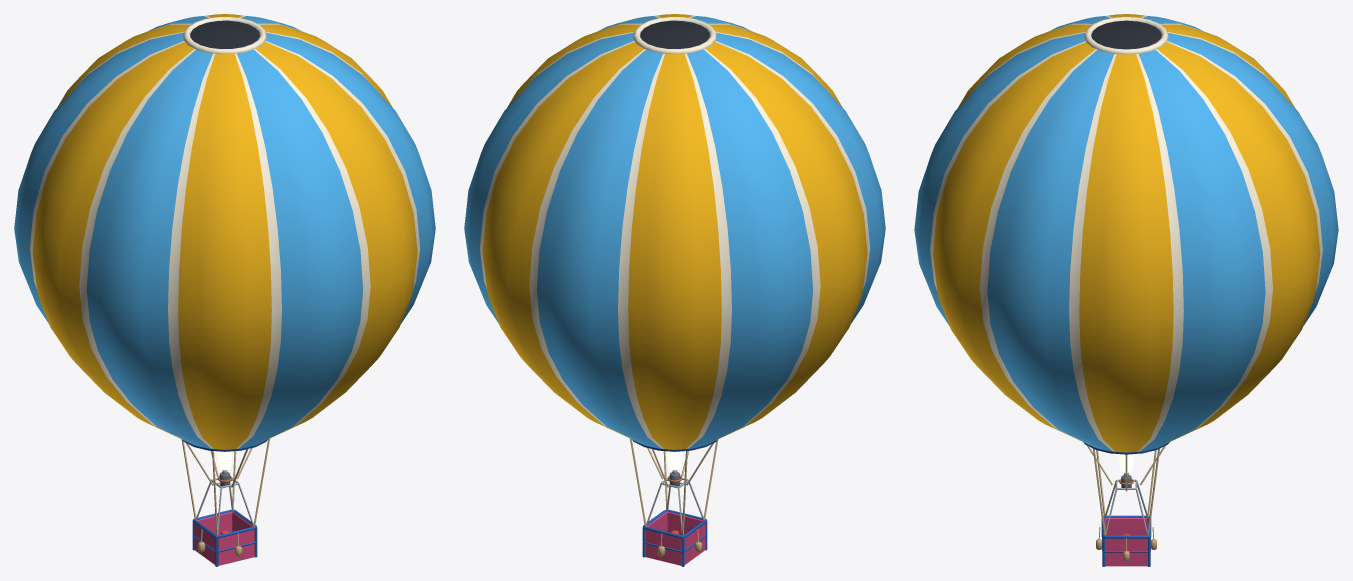
Rendered from balao_listrado_amarelo_azul.glb.
3 views of the same model, side by side, from view 1: azimuth 30°, elevation 25°; view 2: azimuth 150°, elevation 25°; view 3: azimuth 270°, elevation 25° (orthographic).
Parts seen in each view (by area): view 1: balao_listrado_amarelo_azul; view 2: balao_listrado_amarelo_azul; view 3: balao_listrado_amarelo_azul.
Boxes of the visible parts, x1,y1,x2,y2 form: balao_listrado_amarelo_azul: (14,14,435,566); balao_listrado_amarelo_azul: (464,14,885,566); balao_listrado_amarelo_azul: (914,14,1338,566).
Bounding box in the file's own units: 13.65 × 18.62 × 13.65.
2 materials, 1 textured.
